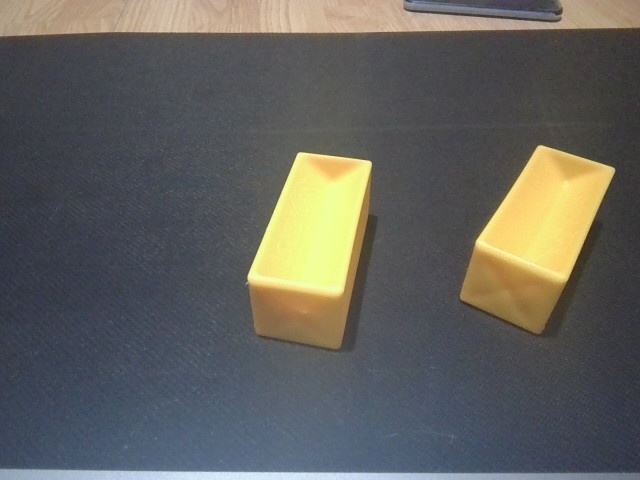YellowSample: (456, 142, 617, 344), (243, 144, 375, 353)
